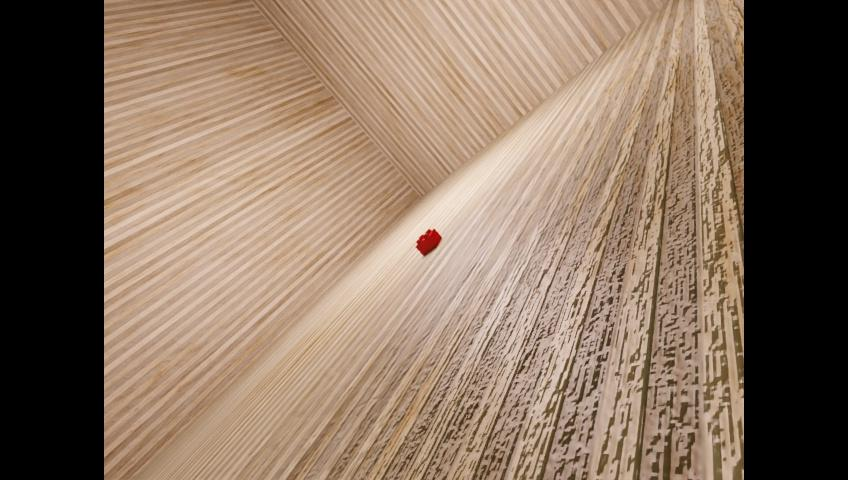2x2_red: (415, 228, 441, 255)
